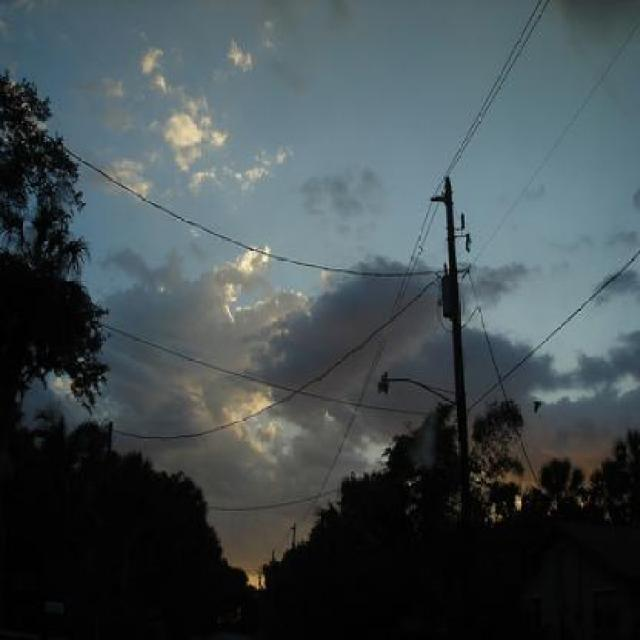pole: (430, 152, 499, 590)
